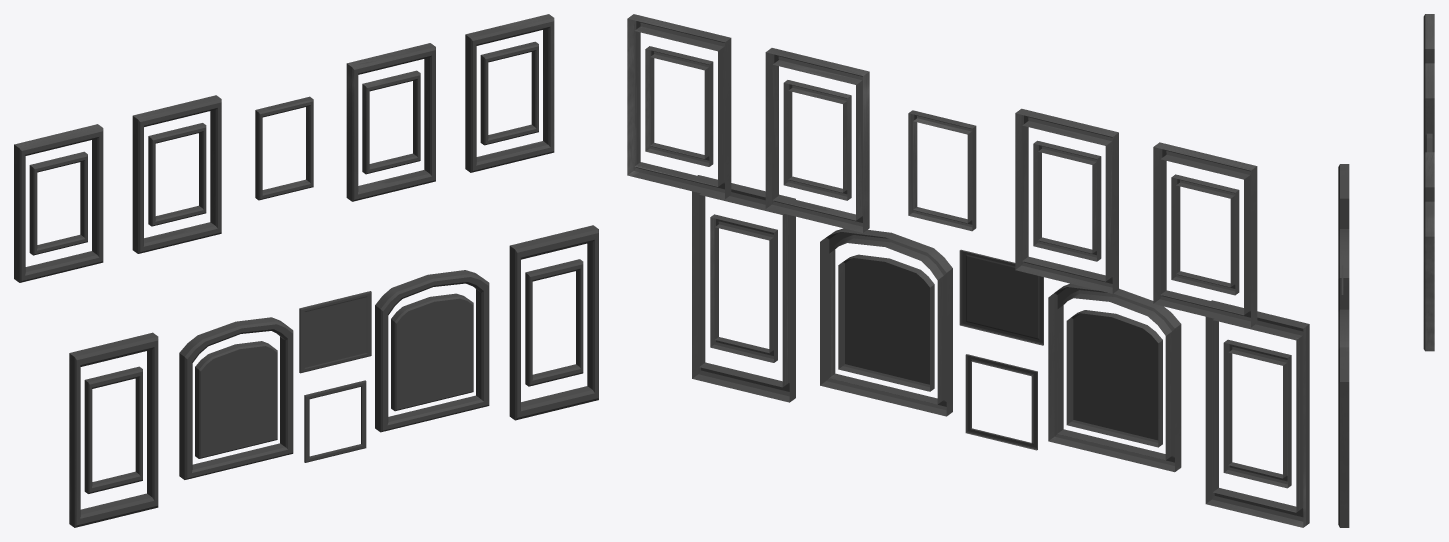
File: cook_background_small.fbx
3 views of the same model, side by side, from view 1: azimuth 30°, elevation 25°; view 2: azimuth 150°, elevation 25°; view 3: azimuth 270°, elevation 25° (orthographic). The views are drawn at different scales.
Visible parts, largest first — view 1: cook_background_small; view 2: cook_background_small; view 3: cook_background_small.
Part boxes in pixels (left/top/right/bottom): cook_background_small: left=14, top=14, right=598, bottom=527; cook_background_small: left=627, top=14, right=1309, bottom=527; cook_background_small: left=1338, top=14, right=1434, bottom=527.
Bounding box in the file's own units: 187 × 115 × 34.18.
